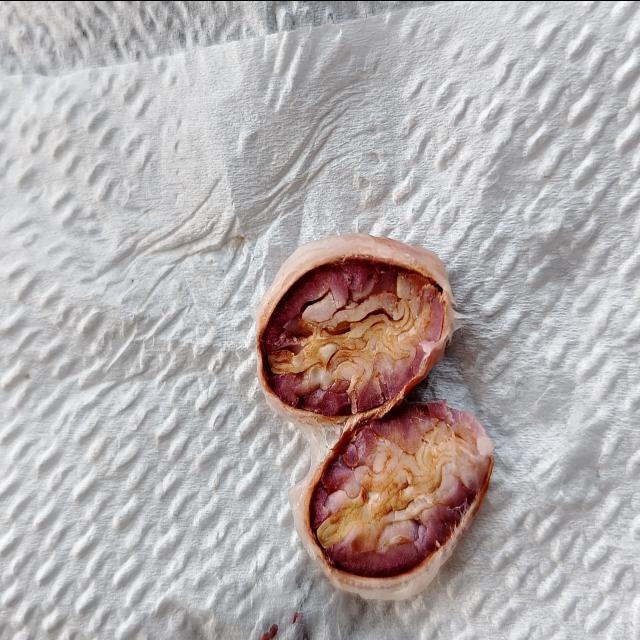Trinitario: (311, 396, 495, 574), (259, 261, 445, 415)
